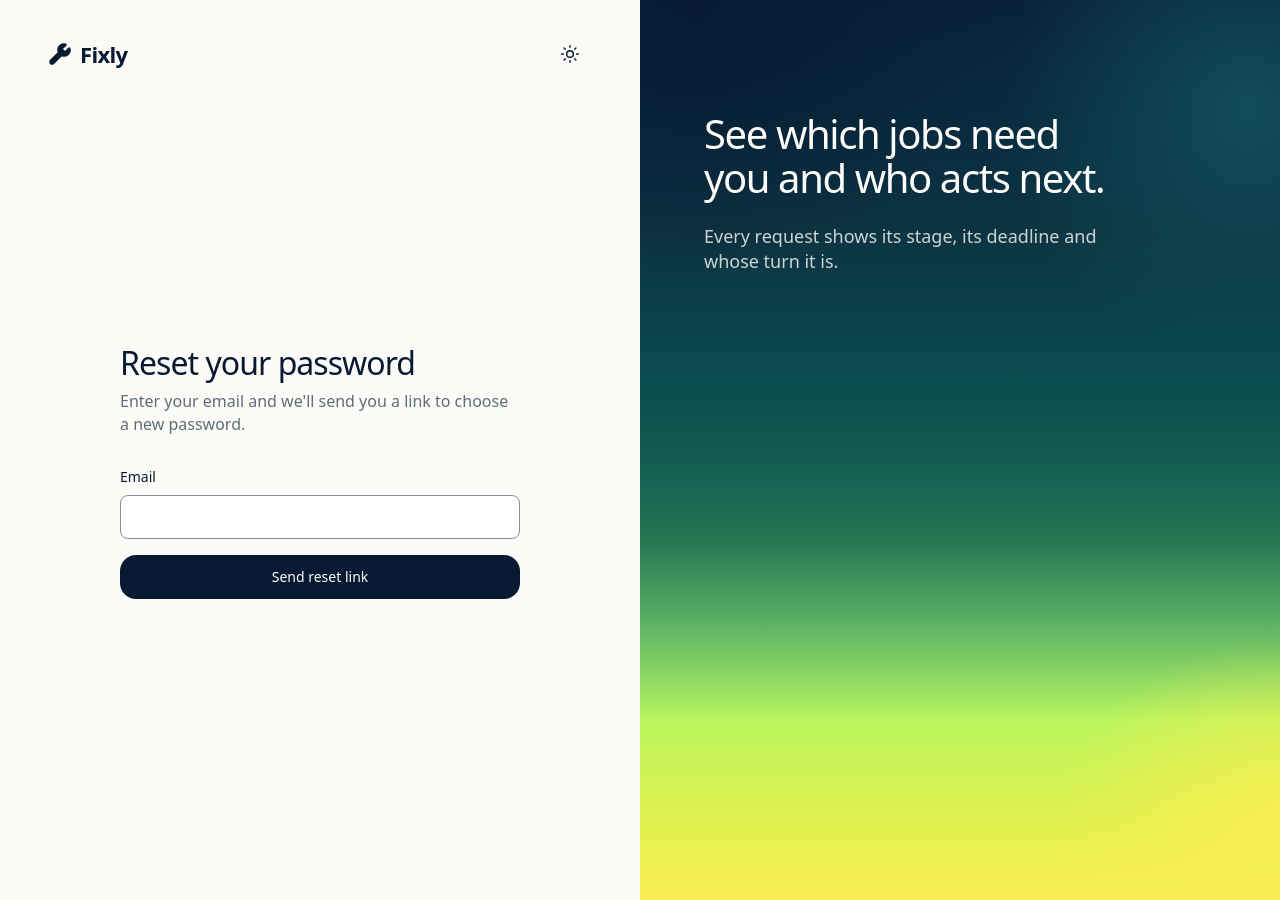
Test: ForgotPassword always shows the neutral message
This screenshot has width=1280, height=900.
Type "nobody@example.com" into the field labelled "Email". click: (320, 517)
box: x1=120 y1=495 x2=520 y2=539
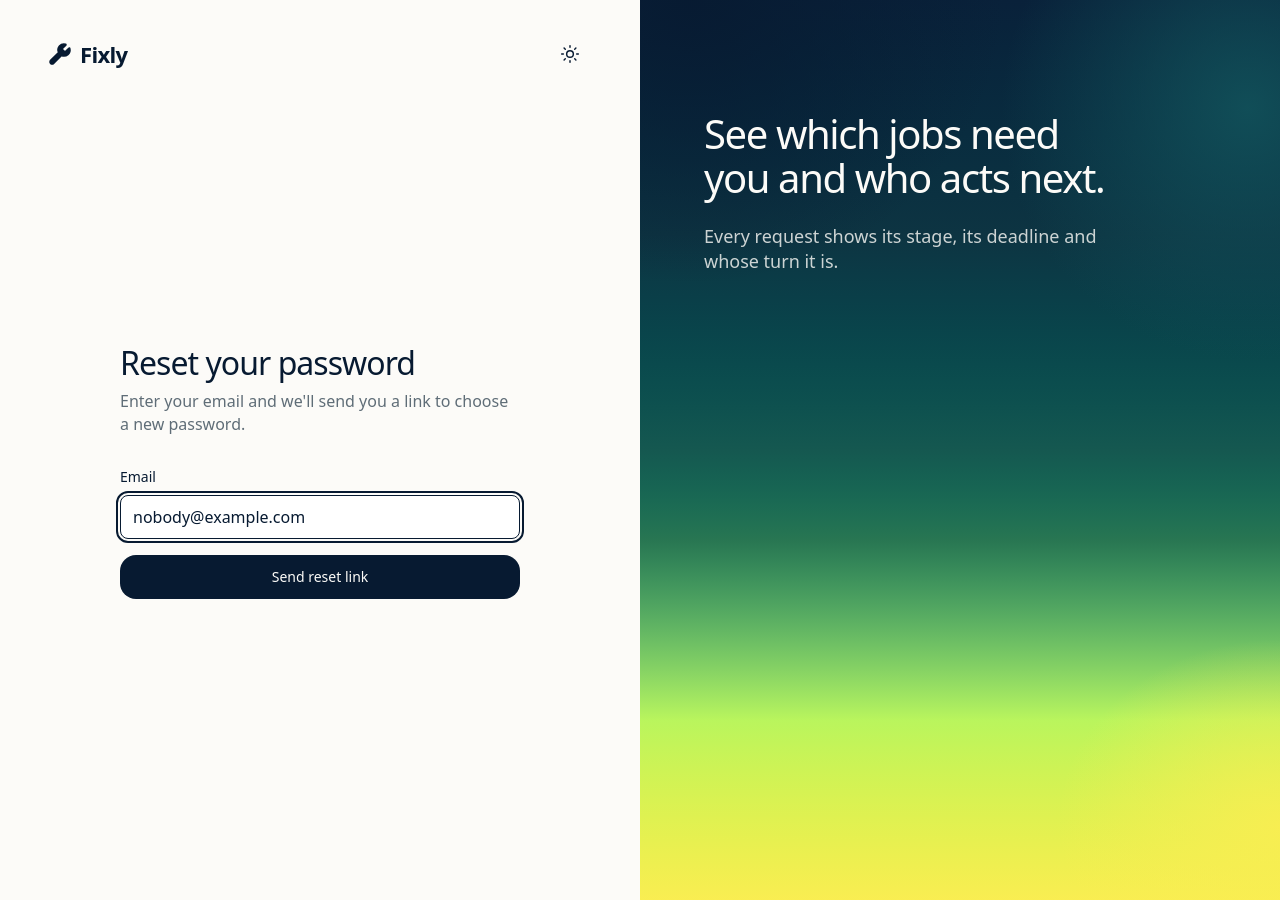
Click the button "Send reset link". click: (320, 577)
box: x1=120 y1=555 x2=520 y2=599
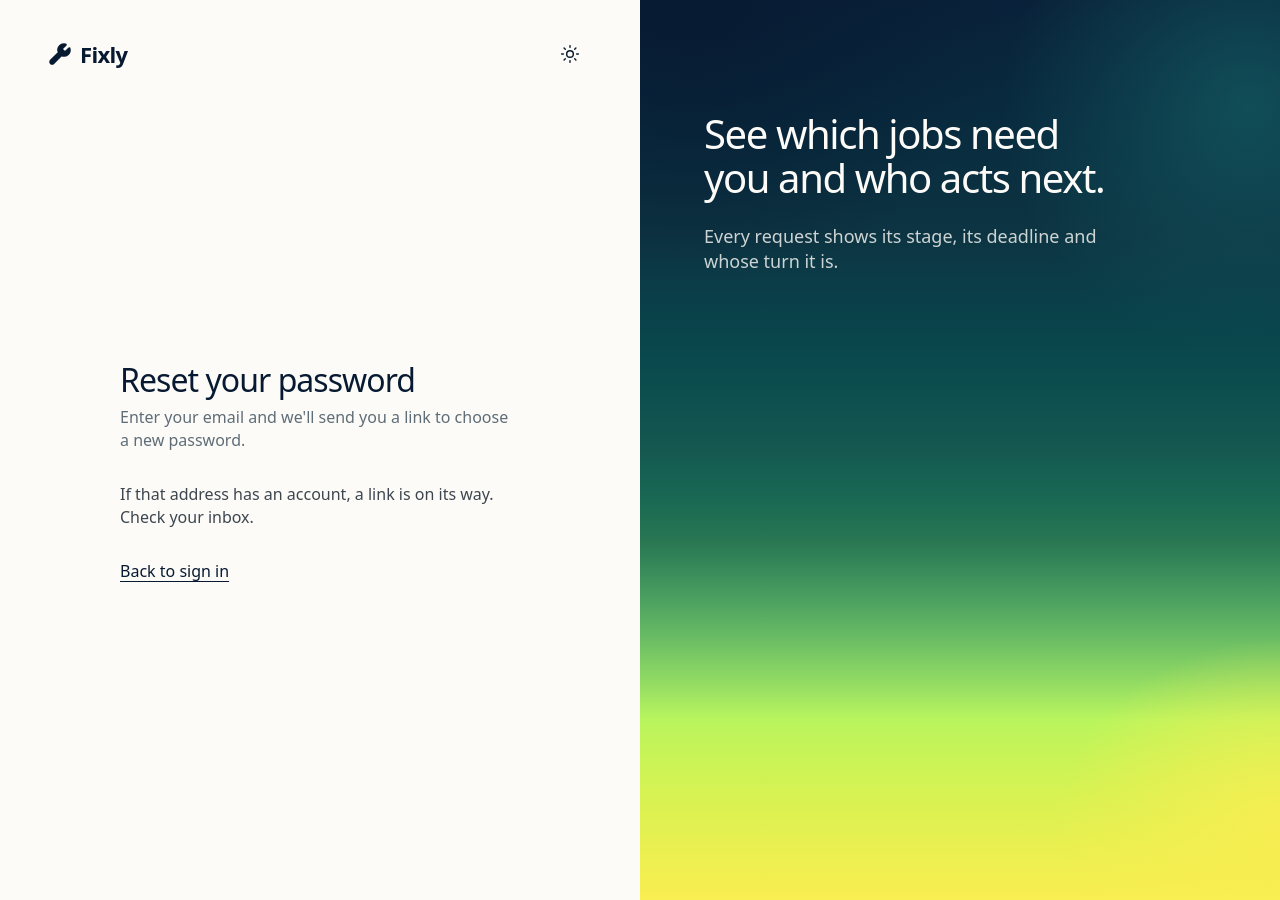
Expected: the text "If that address has an account, a link is on its way. Check your inbox." is shown, x1=120 y1=483 x2=520 y2=528
